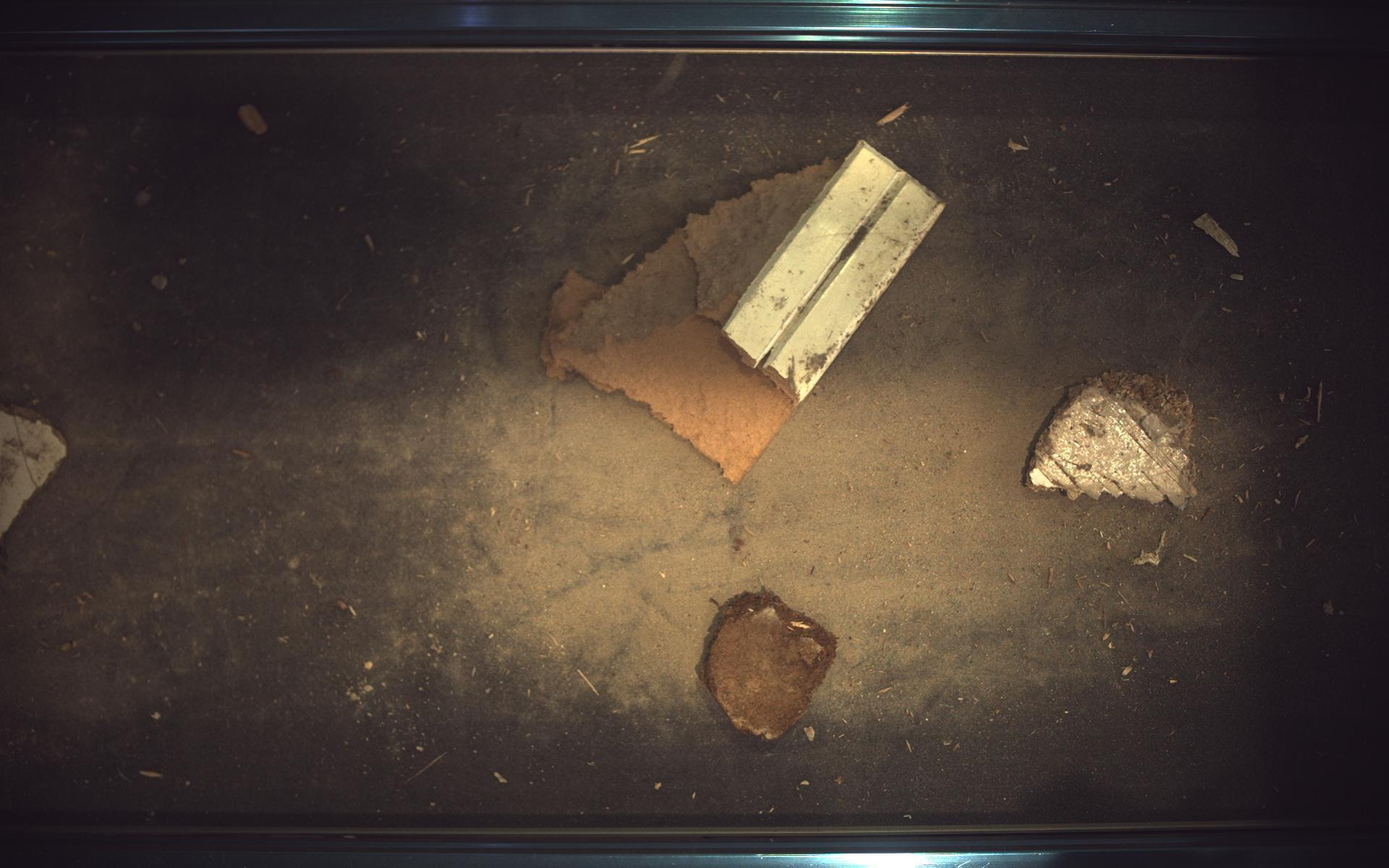wood: (542, 141, 946, 483), (1030, 372, 1199, 509), (702, 593, 838, 741)
